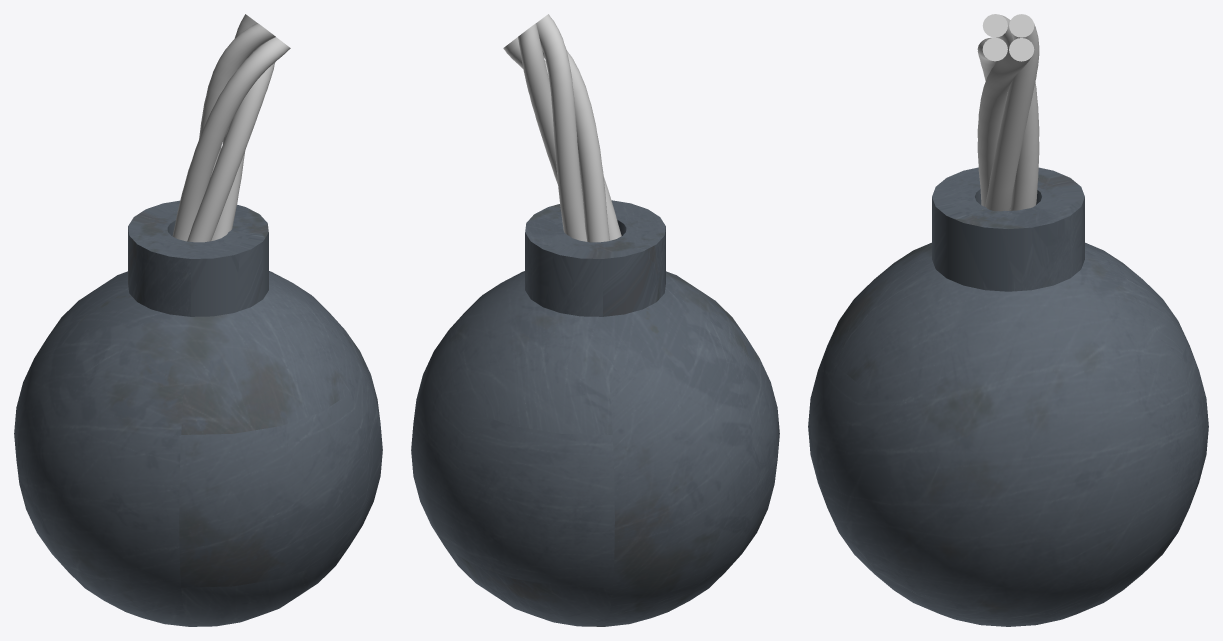
The model's file is Bomb.fbx.
3 renders of one model, left to right at view 1: azimuth 30°, elevation 25°; view 2: azimuth 150°, elevation 25°; view 3: azimuth 270°, elevation 25°, orthographic. The views are drawn at different scales.
Visible parts, largest first — view 1: Sphere, Pipe, Cylinder; view 2: Sphere, Pipe, Cylinder; view 3: Sphere, Pipe, Cylinder.
Part boxes in pixels (x1,y1,x2,y2): Sphere: (14, 271, 382, 626); Pipe: (128, 200, 268, 316); Cylinder: (172, 14, 290, 242); Sphere: (411, 271, 779, 626); Pipe: (525, 200, 665, 316); Cylinder: (503, 14, 621, 242); Sphere: (808, 242, 1208, 626); Pipe: (932, 167, 1084, 291); Cylinder: (977, 14, 1039, 211).
Size of the model in its own units: 1.2 by 2.06 by 1.2.
